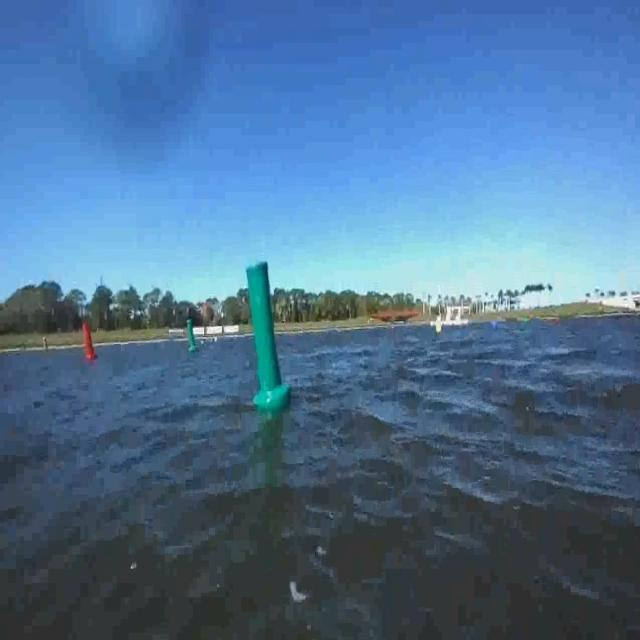blue-buoy: (489, 318, 498, 332)
green-column-buoy: (246, 257, 293, 412), (186, 319, 198, 352)
red-column-buoy: (81, 322, 99, 363)
yellow-buoy: (434, 326, 442, 338)
